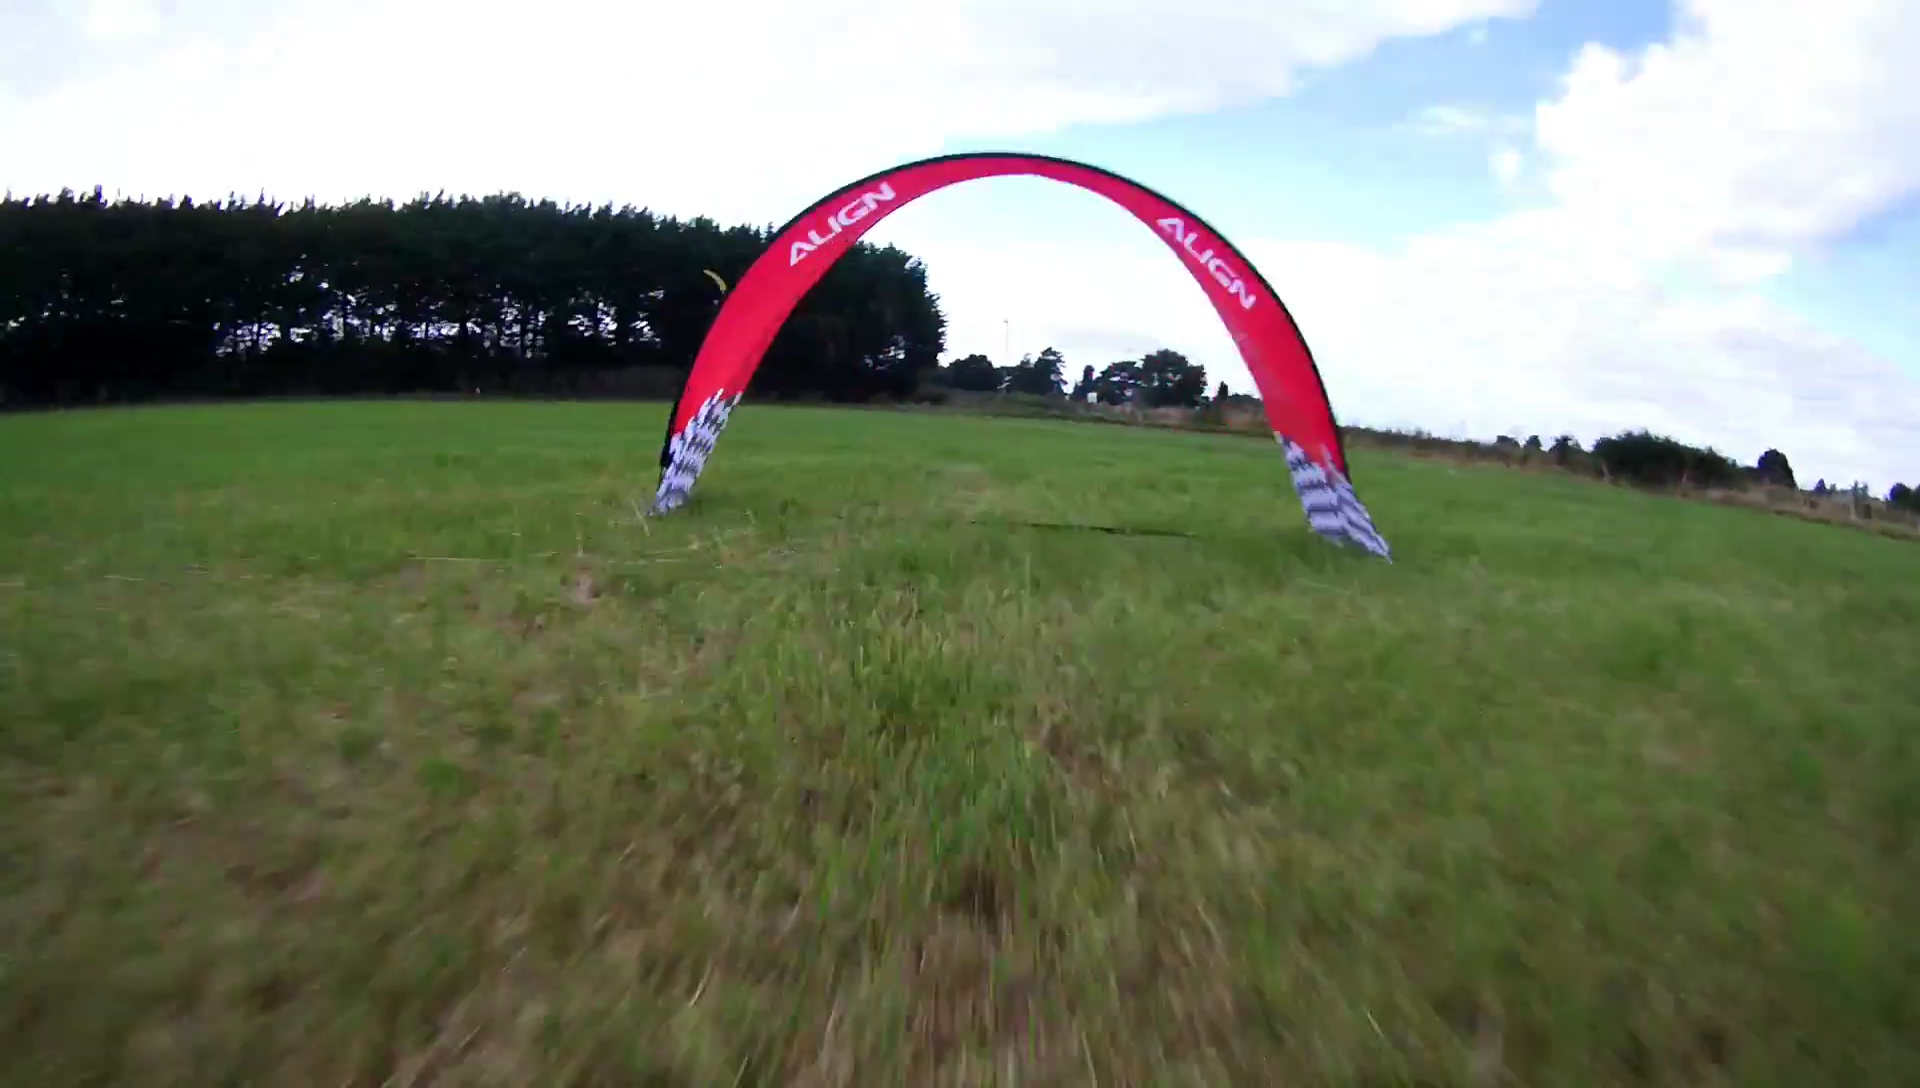gate: (644, 148, 1395, 564)
